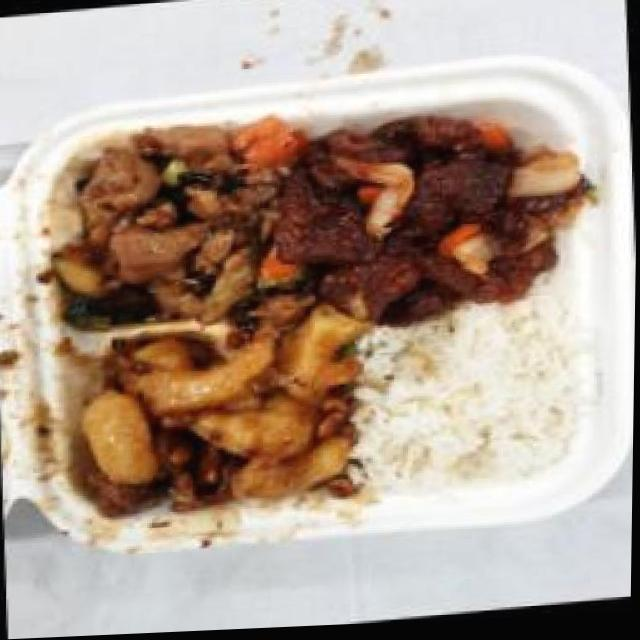Beijing Beef: (268, 102, 599, 339)
Honey Walnut Shrimp: (67, 307, 374, 535)
Kung Pao Chicken: (31, 109, 312, 352)
White Steamed Rice: (354, 307, 589, 500)
